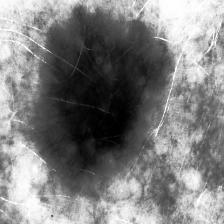Benign Marking or Mole: (37, 10, 166, 180)
